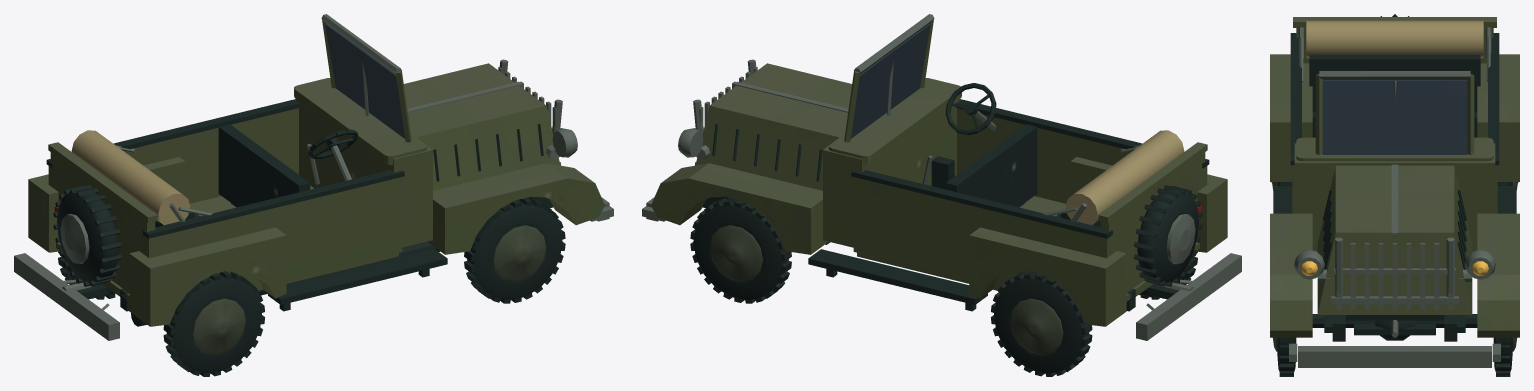
File: type95-kurogane.glb
The picture shows the model from 3 angles, left to right: view 1: azimuth 30°, elevation 25°; view 2: azimuth 150°, elevation 25°; view 3: azimuth 270°, elevation 25°; orthographic projection. The views are drawn at different scales.
Parts seen in each view (by area): view 1: Chassis, WheelFR, WheelRR, KuroganeNose, SteeringWheel; view 2: Chassis, WheelFL, WheelRL, KuroganeNose, SteeringWheel; view 3: Chassis, KuroganeNose, WheelFL, WheelFR.
Boxes of the visible parts, left/top/right/bottom form: Chassis: left=14, top=14, right=604, bottom=340; WheelFR: left=464, top=197, right=565, bottom=303; WheelRR: left=163, top=271, right=264, bottom=376; KuroganeNose: left=498, top=59, right=613, bottom=221; SteeringWheel: left=307, top=129, right=358, bottom=158; Chassis: left=651, top=14, right=1241, bottom=340; WheelFL: left=690, top=197, right=791, bottom=303; WheelRL: left=991, top=271, right=1092, bottom=376; KuroganeNose: left=642, top=59, right=757, bottom=221; SteeringWheel: left=945, top=83, right=996, bottom=134; Chassis: left=1270, top=14, right=1519, bottom=341; KuroganeNose: left=1289, top=237, right=1500, bottom=367; WheelFL: left=1493, top=337, right=1516, bottom=376; WheelFR: left=1273, top=337, right=1296, bottom=376.
Size of the model in its own units: 3.6 by 1.68 by 1.52.
Materials: 1 (1 with a texture image).
